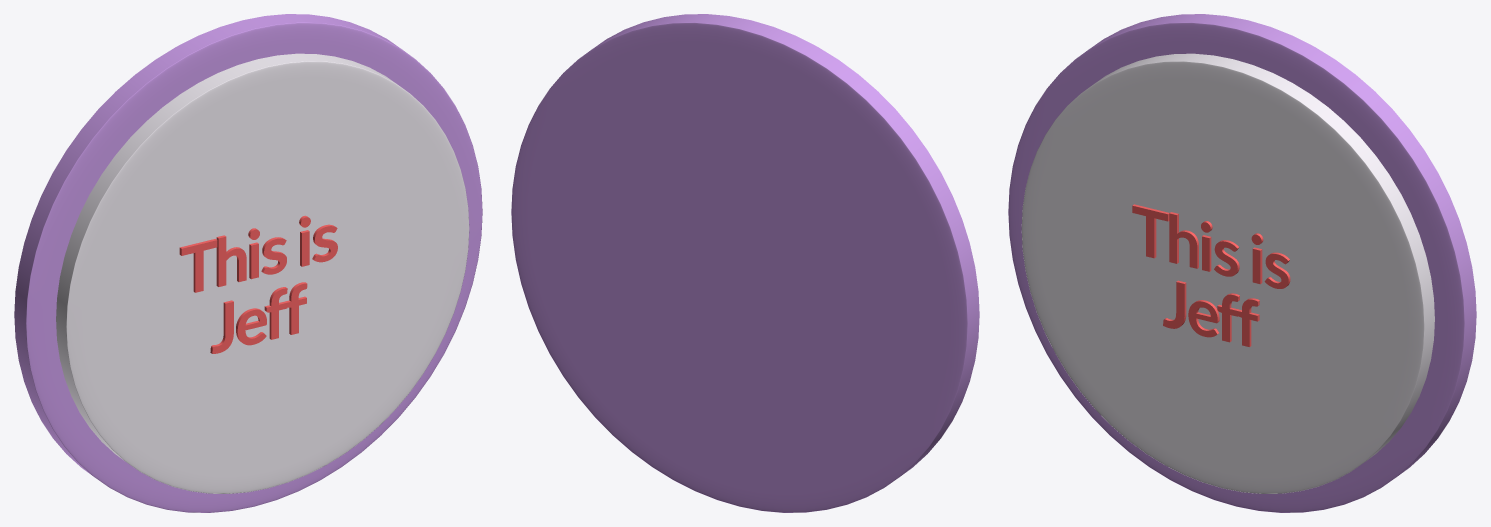
Rendered from explainer-poc-pop-up-1.glb.
The picture shows the model from 3 angles, left to right: view 1: azimuth 30°, elevation 25°; view 2: azimuth 150°, elevation 25°; view 3: azimuth 330°, elevation 25°; orthographic projection.
Visible parts, largest first — view 1: Cylinder 2, Cylinder 1, 3D Text - f (×2), 3D Text - s (×2), 3D Text - h, 3D Text - T, 3D Text - e, 3D Text - J; view 2: Cylinder 1; view 3: Cylinder 2, Cylinder 1, 3D Text - s (×2), 3D Text - f (×2), 3D Text - h, 3D Text - T, 3D Text - e, 3D Text - J.
Boxes of the visible parts, x1,y1,x2,y2 form: Cylinder 2: (56, 53, 469, 493); Cylinder 1: (14, 14, 482, 512); 3D Text - f (×2): (264, 282, 307, 339); 3D Text - s (×2): (261, 224, 337, 274); 3D Text - h: (216, 235, 246, 286); 3D Text - T: (179, 239, 217, 292); 3D Text - e: (236, 308, 266, 345); 3D Text - J: (210, 300, 233, 353); Cylinder 1: (511, 14, 979, 512); Cylinder 2: (1021, 53, 1434, 493); Cylinder 1: (1008, 14, 1476, 512); 3D Text - s (×2): (1214, 240, 1290, 288); 3D Text - f (×2): (1217, 293, 1259, 346); 3D Text - h: (1169, 212, 1198, 268); 3D Text - T: (1132, 204, 1169, 258); 3D Text - e: (1188, 300, 1219, 337); 3D Text - J: (1163, 280, 1186, 328).
Size of the model in its own units: 0.0435 by 0.0435 by 0.00462.
